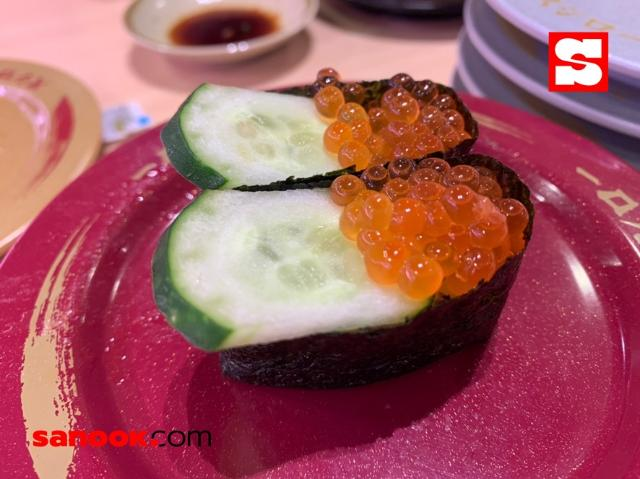janback: (323, 0, 455, 27)
jangold: (0, 52, 96, 227)
janred: (56, 118, 640, 469)
janwhite: (451, 22, 640, 125), (495, 0, 640, 68), (453, 85, 483, 100)
